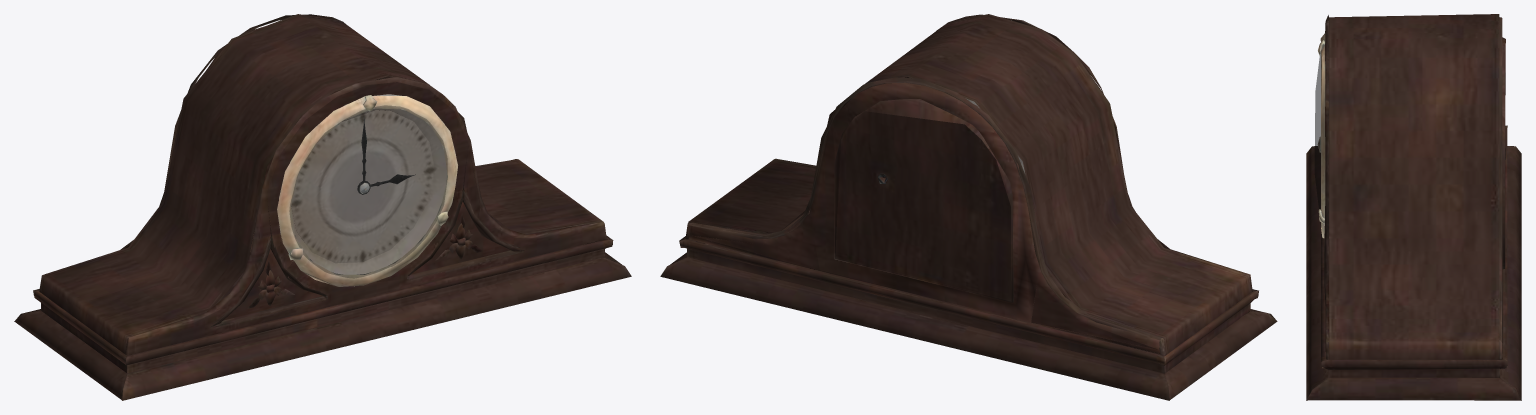
File: isl_mclock.glb
3 views of the same model, side by side, from view 1: azimuth 30°, elevation 25°; view 2: azimuth 150°, elevation 25°; view 3: azimuth 270°, elevation 25° (orthographic).
Visible parts, largest first — view 1: mantel_clock_01; view 2: mantel_clock_01; view 3: mantel_clock_01.
Boxes of the visible parts, <box> form: mantel_clock_01: <box>14,14,631,400</box>; mantel_clock_01: <box>660,14,1277,400</box>; mantel_clock_01: <box>1306,14,1521,400</box>.
Size of the model in its own units: 0.3421 by 0.1612 by 0.1257.
2 materials, 2 textured.
